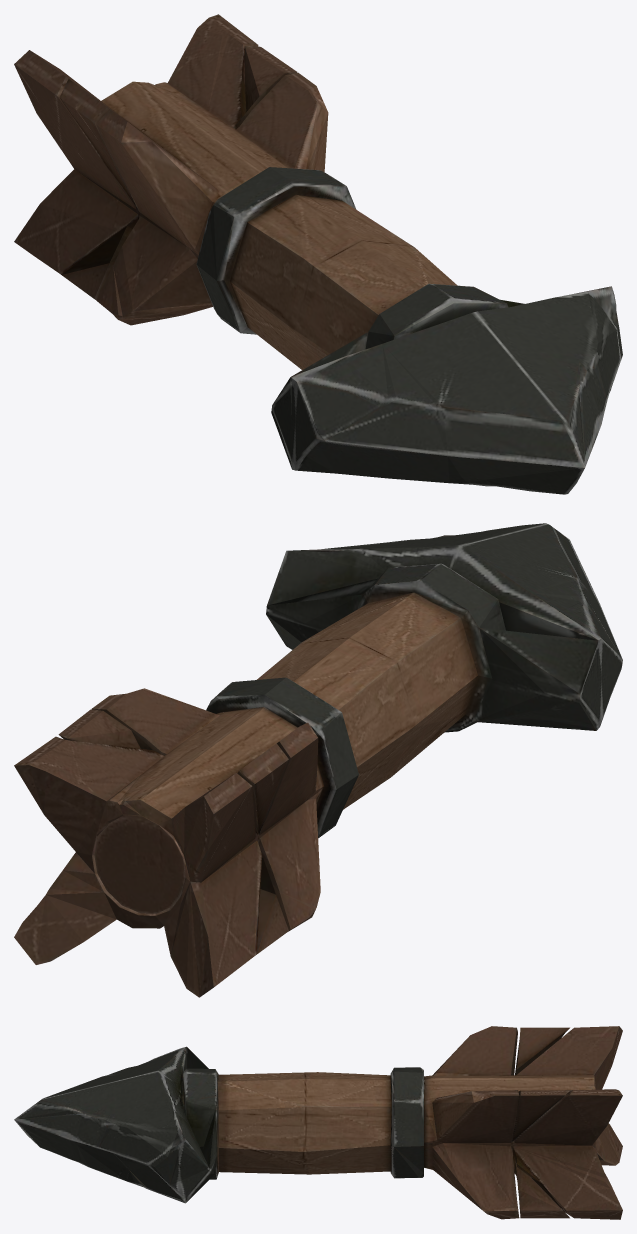
The model's file is wooden_arrow.glb.
The picture shows the model from 3 angles, top to bottom: view 1: azimuth 30°, elevation 25°; view 2: azimuth 150°, elevation 25°; view 3: azimuth 270°, elevation 25°; orthographic projection. The views are drawn at different scales.
Visible parts, largest first — view 1: tripo_node_650c088d-996f-4ec6-bc82-32f2a31b0822; view 2: tripo_node_650c088d-996f-4ec6-bc82-32f2a31b0822; view 3: tripo_node_650c088d-996f-4ec6-bc82-32f2a31b0822.
Boxes of the visible parts, bbox=[...] form: tripo_node_650c088d-996f-4ec6-bc82-32f2a31b0822: bbox=[14, 14, 622, 494]; tripo_node_650c088d-996f-4ec6-bc82-32f2a31b0822: bbox=[14, 523, 622, 997]; tripo_node_650c088d-996f-4ec6-bc82-32f2a31b0822: bbox=[14, 1026, 622, 1219].
Size of the model in its own units: 0.3965 by 0.252 by 0.998.
1 material, 1 textured.
